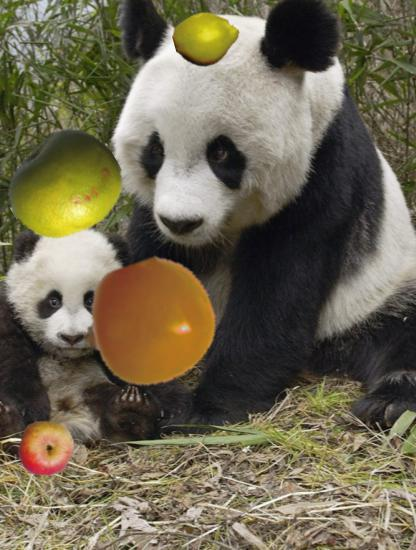Apple: (17, 420, 75, 478)
Physalis: (80, 255, 216, 391)
Pomelo: (6, 128, 122, 244)
Quince: (174, 6, 241, 73)
